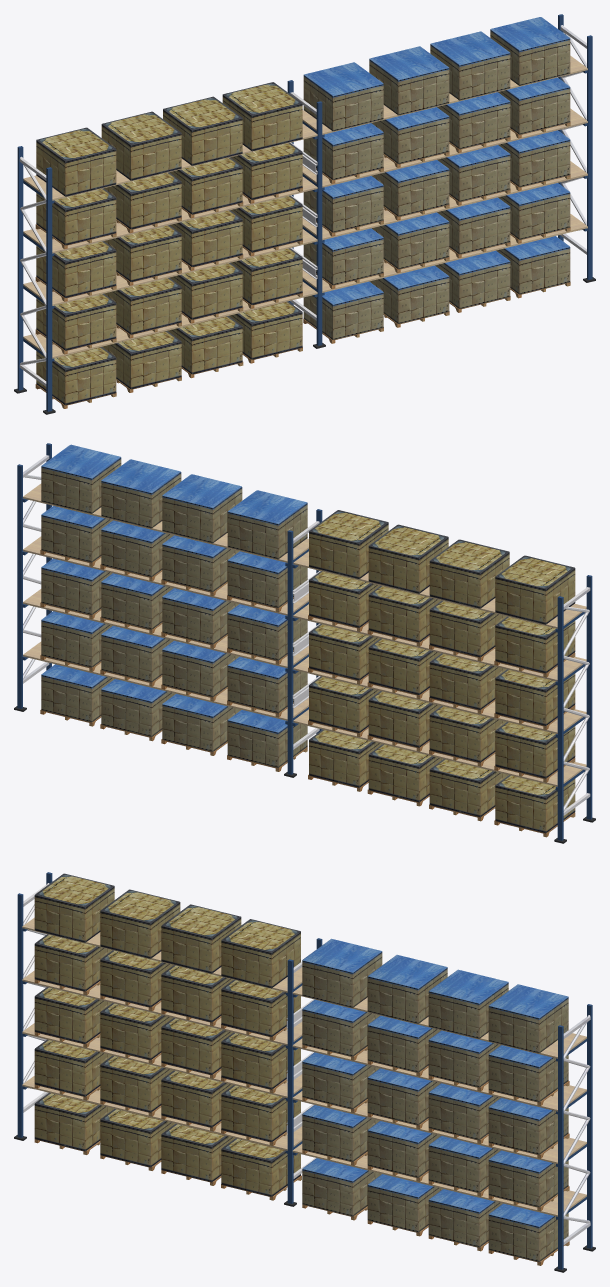
Rendered from BigLogistics-transformed.glb.
The picture shows the model from 3 angles, top to bottom: view 1: azimuth 30°, elevation 25°; view 2: azimuth 150°, elevation 25°; view 3: azimuth 330°, elevation 25°; orthographic projection.
Visible parts, largest first — view 1: Box_Pallet02, Box_Pallet01, BigShelves01, BigShelvesWoodBox; view 2: Box_Pallet02, Box_Pallet01, BigShelves01, BigShelvesWoodBox; view 3: Box_Pallet01, Box_Pallet02, BigShelves01, BigShelvesWoodBox.
Boxes of the visible parts, box(x1,y1,x2,y2) form: Box_Pallet02: box(36, 82, 302, 405); Box_Pallet01: box(303, 17, 570, 339); BigShelves01: box(14, 14, 595, 414); BigShelvesWoodBox: box(35, 122, 570, 408); Box_Pallet02: box(309, 510, 575, 833); Box_Pallet01: box(41, 444, 307, 767); BigShelves01: box(14, 443, 595, 843); BigShelvesWoodBox: box(40, 549, 575, 837); Box_Pallet01: box(302, 938, 568, 1261); Box_Pallet02: box(34, 873, 300, 1196); BigShelves01: box(14, 872, 595, 1272); BigShelvesWoodBox: box(34, 979, 569, 1265).
Size of the model in its own units: 17.75 by 7.66 by 1.82.
7 materials, 7 textured.
